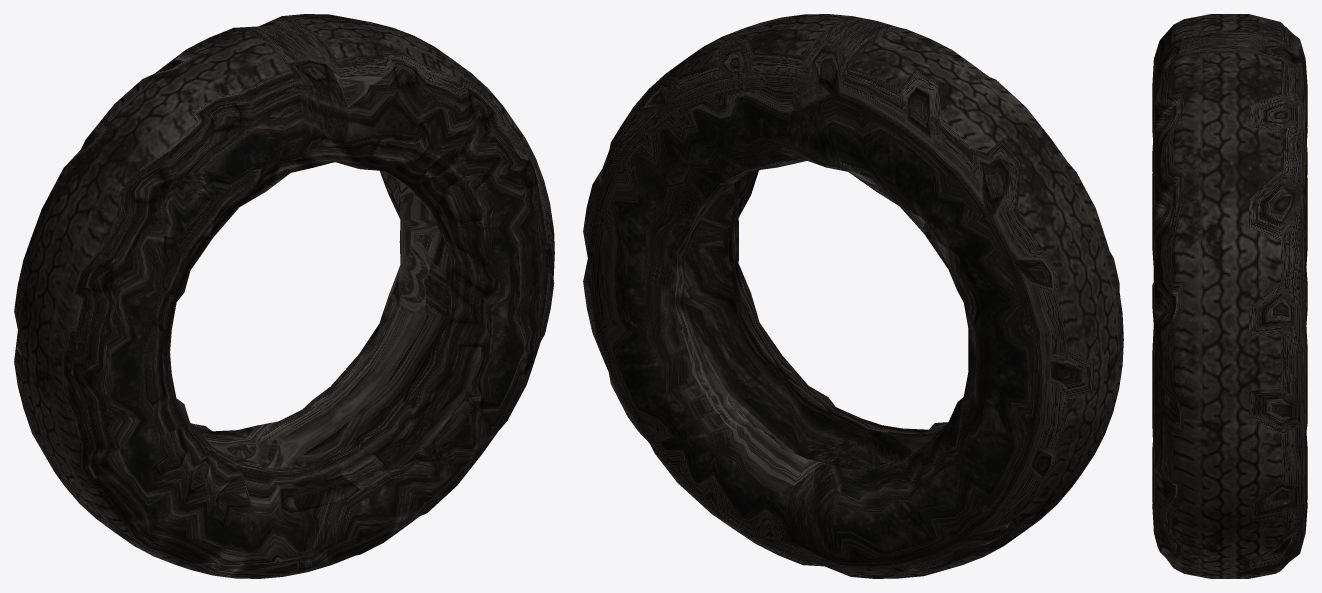
File: old_tyre.glb
3 views of the same model, side by side, from view 1: azimuth 30°, elevation 25°; view 2: azimuth 150°, elevation 25°; view 3: azimuth 270°, elevation 25° (orthographic). The views are drawn at different scales.
Parts seen in each view (by area): view 1: old_tyre; view 2: old_tyre; view 3: old_tyre.
Part boxes in pixels (left/top/right/bottom): old_tyre: left=14, top=14, right=554, bottom=578; old_tyre: left=583, top=14, right=1123, bottom=578; old_tyre: left=1152, top=14, right=1307, bottom=578.
Bounding box in the file's own units: 0.6 × 0.6 × 0.165.
Materials: 1 (1 with a texture image).
